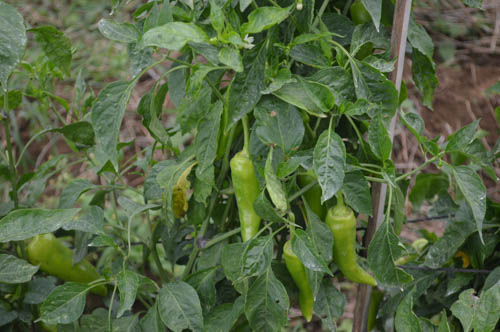ChiliPepper: (30, 235, 110, 293), (326, 211, 375, 285), (229, 157, 266, 254), (282, 243, 315, 321)
